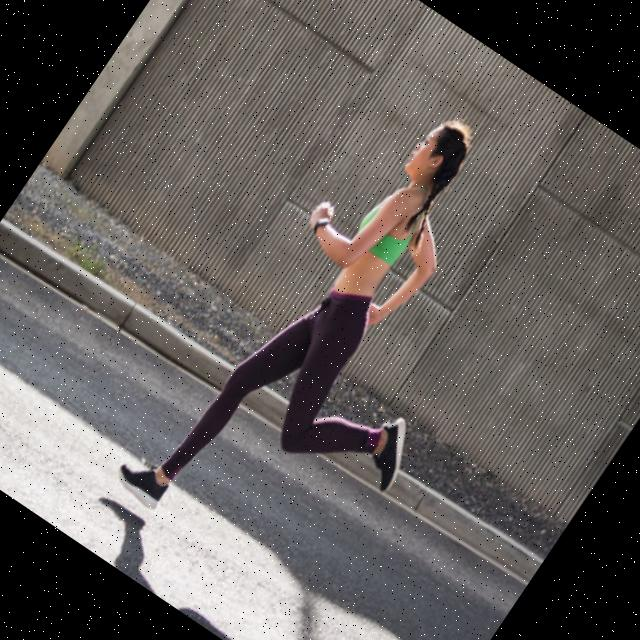Person: (110, 71, 582, 614)
